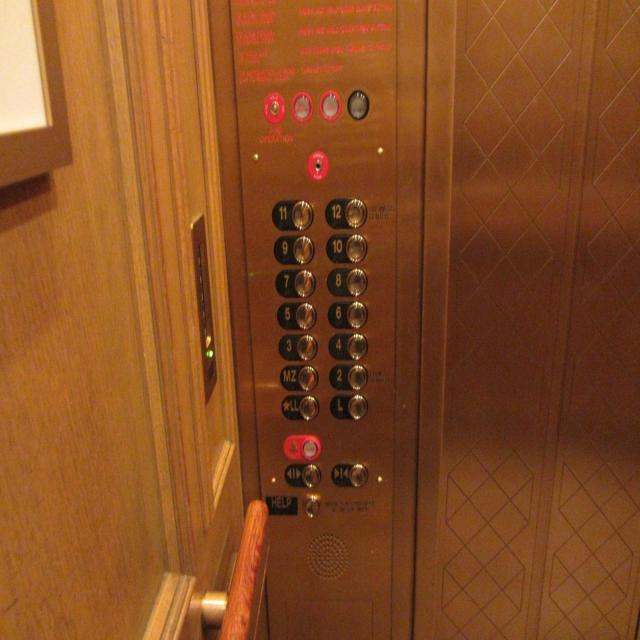10: (326, 234, 367, 263)
11: (272, 200, 313, 230)
12: (324, 197, 368, 229)
2: (328, 363, 368, 390)
3: (278, 333, 318, 361)
4: (328, 333, 368, 360)
5: (276, 302, 316, 329)
6: (327, 301, 368, 328)
7: (274, 268, 316, 297)
8: (326, 268, 367, 296)
9: (274, 234, 314, 264)
L: (330, 394, 368, 420)
MZ: (280, 364, 318, 390)
alarm: (283, 434, 321, 461)
blur: (346, 89, 369, 120), (302, 494, 322, 518)
close: (332, 461, 368, 487)
keyhole: (262, 93, 286, 123), (307, 150, 329, 180)
open: (284, 462, 322, 488)
sLL: (281, 394, 319, 420)
text_help: (265, 494, 299, 516)
unknown: (291, 90, 314, 122), (319, 89, 342, 121)
